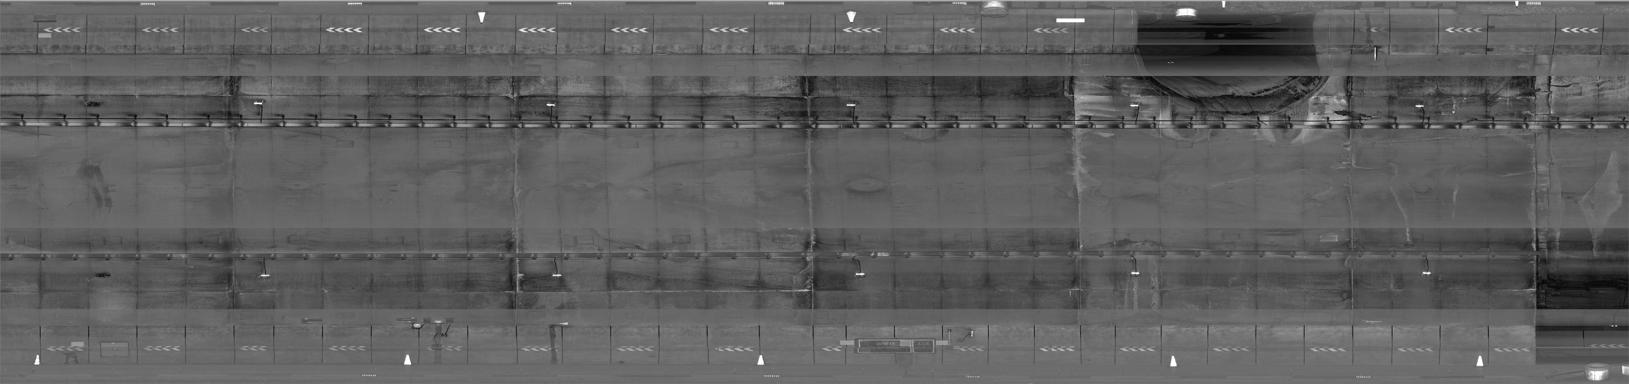light: (850, 268, 874, 281), (1416, 266, 1434, 279), (1128, 98, 1144, 112), (1126, 266, 1142, 280), (550, 269, 566, 282), (255, 270, 272, 282), (1412, 100, 1430, 112), (251, 95, 267, 108), (542, 99, 559, 110), (843, 99, 858, 110)
